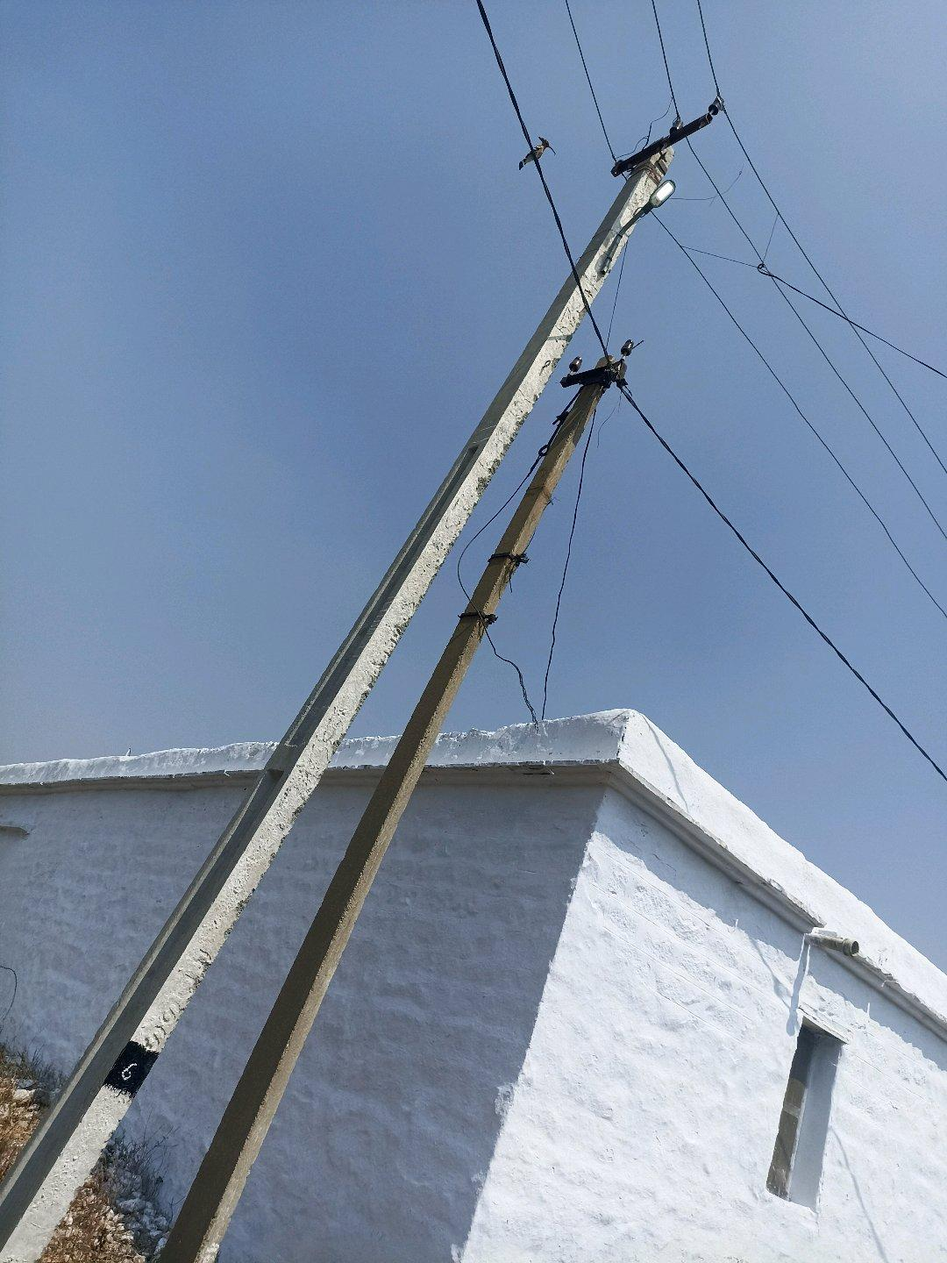{"0" "insulator", "1" "pole", "2" "crossarm", "3" "conductor", "4" "street_: (0, 98, 723, 1262), (158, 340, 637, 1262)
